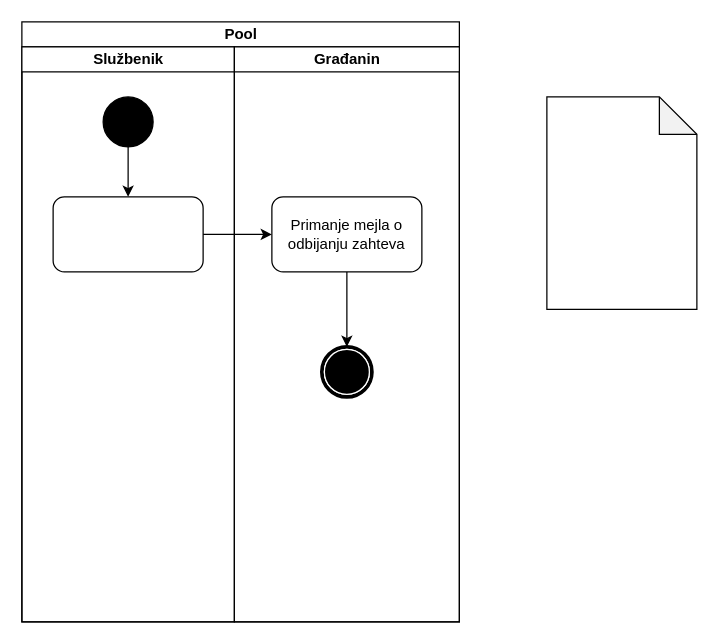
The diagram is 719 pixels wide and 644 high, and some of its shapes have lost their labels. Here are the shapes that lost their labels. From the top down, the centre of each, then its label:
At (x=621, y=202): "Pre slanja mejla potrebno je da se službenik uloguje na servis".
At (x=127, y=234): "Slanje mejla o odbijanju zahteva".
